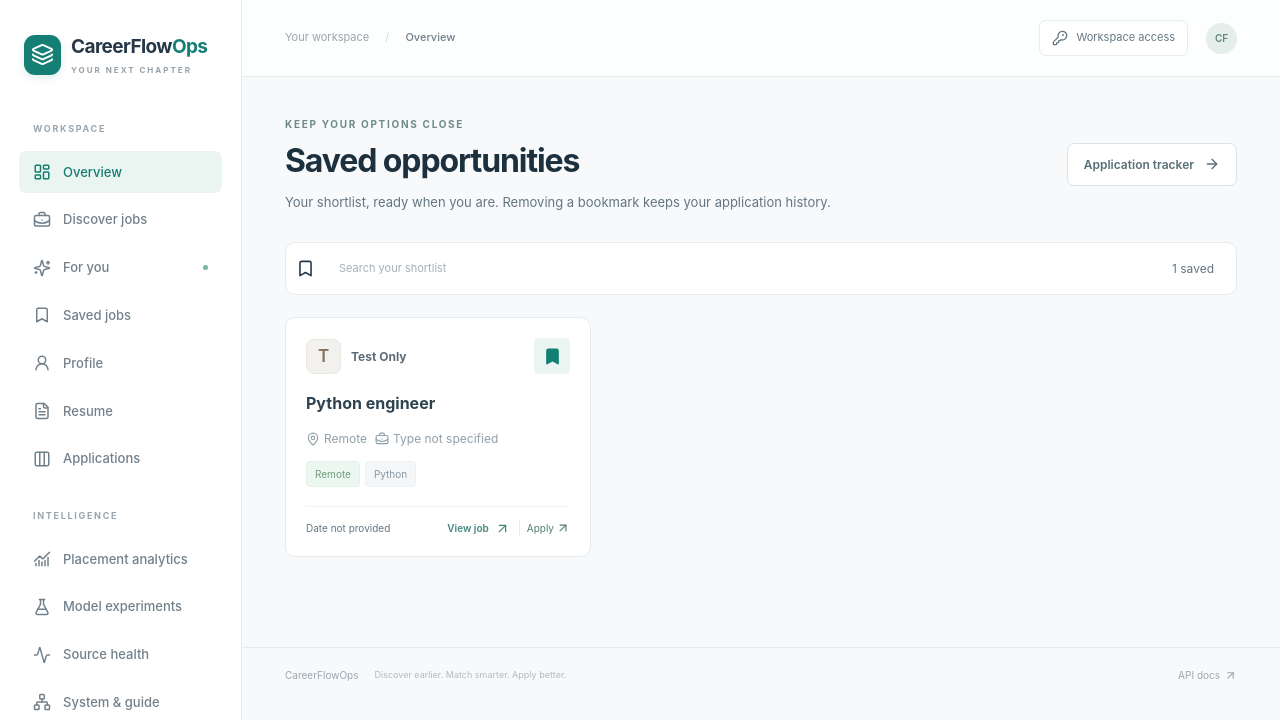
Test: disconnect clears cached private results and the session tokens
Expected: the link "Python engineer" is shown, [306,393,435,413]
Click the button "Workspace access" at (1114,38), box [1039,20,1188,56]
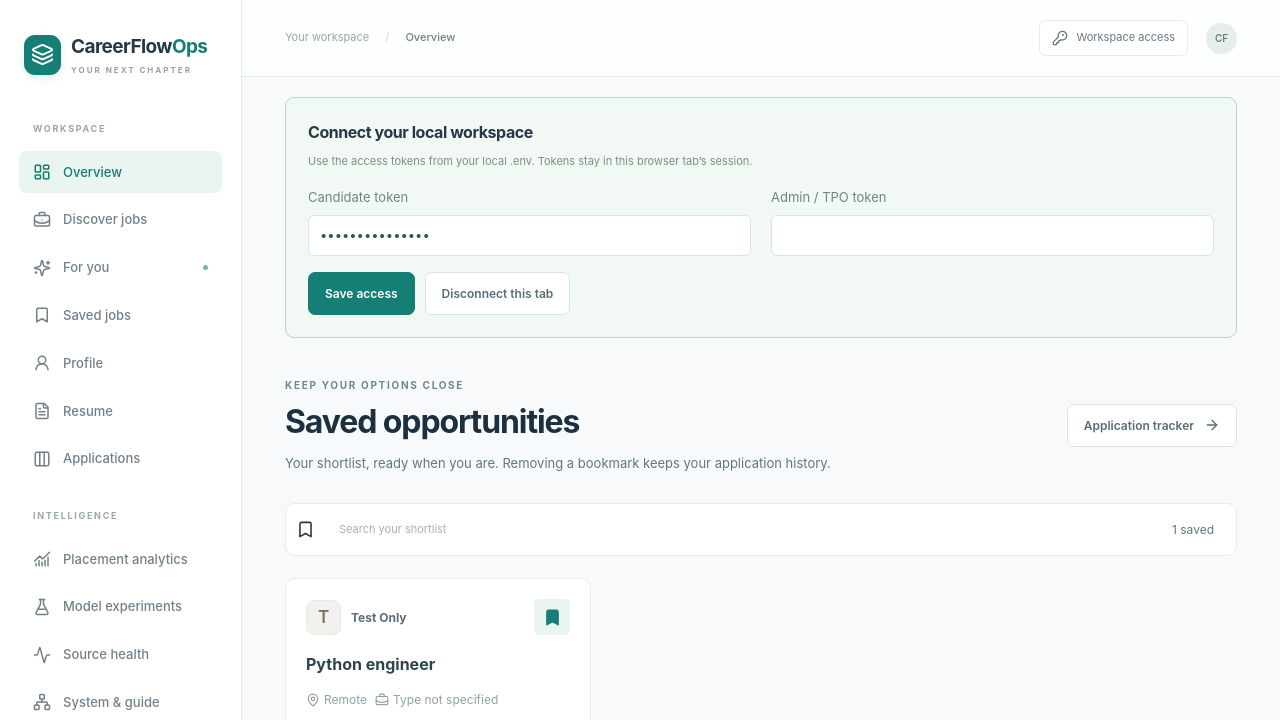
Click the button "Disconnect this tab" at (498,293), box [425,272,570,315]
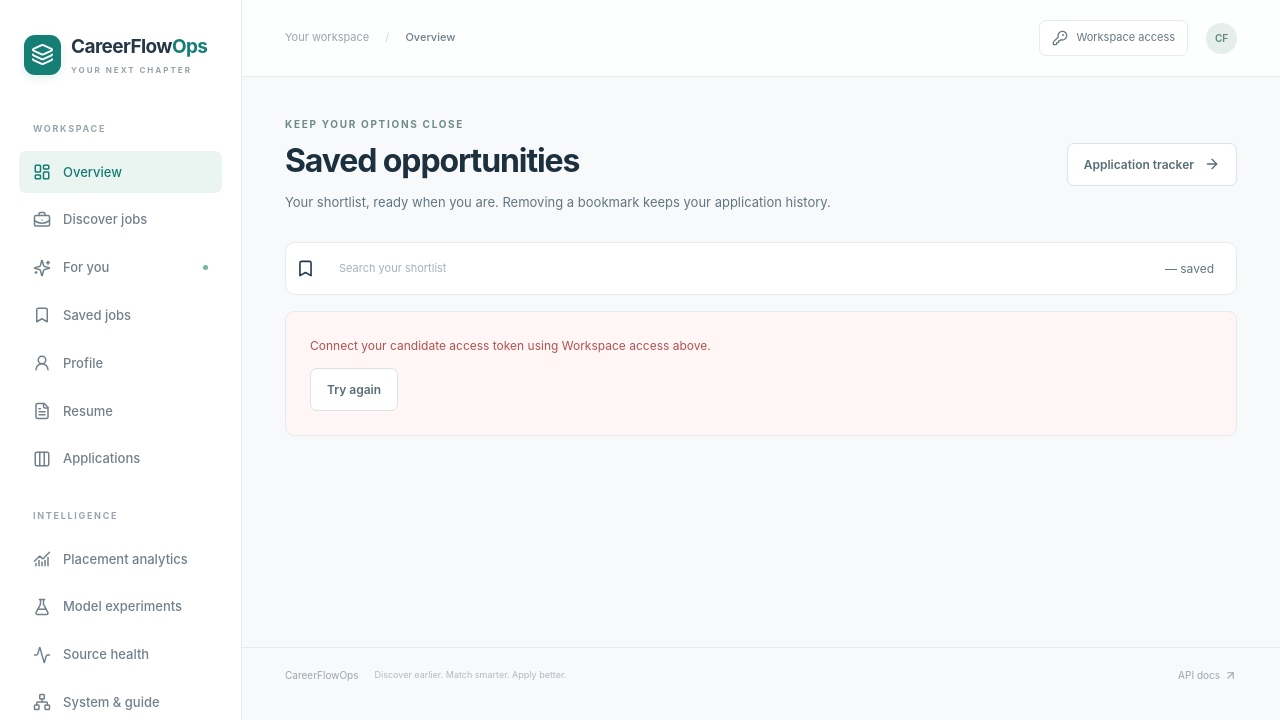
Expected: the message shows "candidate access token", [310,338,711,353]
Expected: the link "Python engineer" is gone
